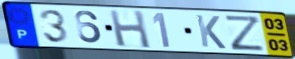1: (151, 12, 171, 49)
3: (38, 9, 70, 44)
6: (74, 10, 104, 46)
H: (107, 9, 154, 50)
K: (194, 14, 228, 51)
Z: (222, 13, 267, 52)
